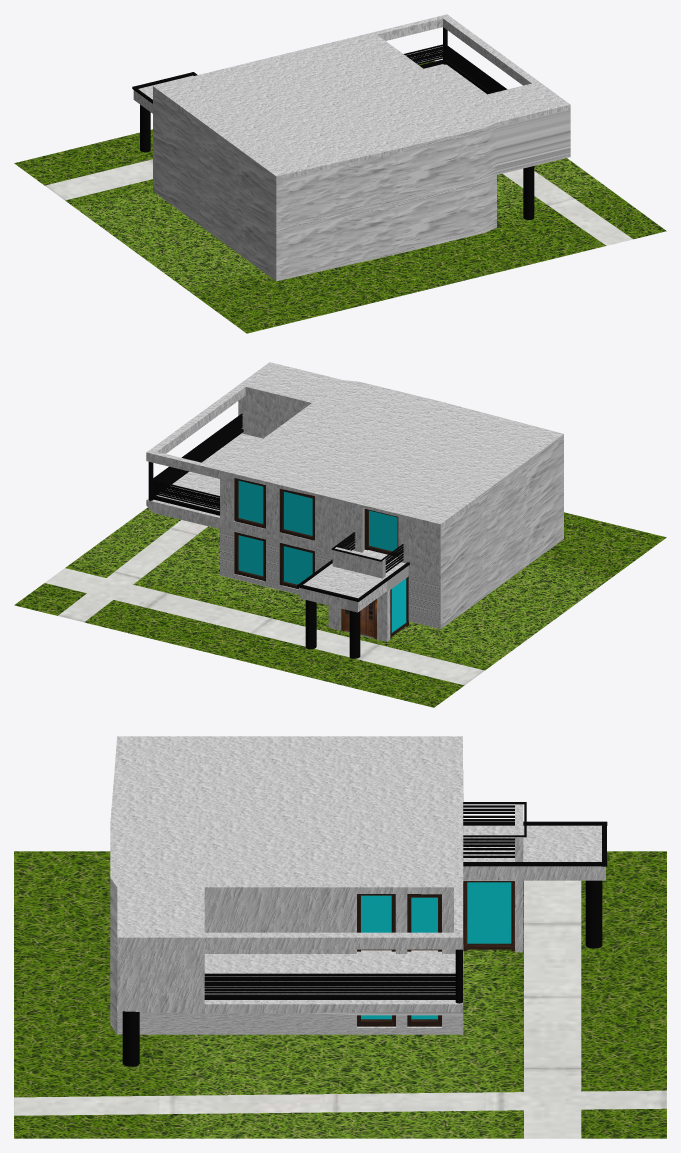
3 views of the same model, one above another, from view 1: azimuth 30°, elevation 25°; view 2: azimuth 150°, elevation 25°; view 3: azimuth 270°, elevation 25° (orthographic). The views are drawn at different scales.
Parts seen in each view (by area): view 1: Object_7, Object_4, Object_9, Object_5; view 2: Object_7, Object_4, Object_9, Object_6, Object_5, Object_8, Object_3, Object_2; view 3: Object_7, Object_4, Object_9, Object_5, Object_6, Object_8, Object_3.
Boxes of the visible parts, x1=… form: Object_7: x1=133, y1=14, x2=570, y2=281; Object_4: x1=14, y1=61, x2=666, y2=333; Object_9: x1=45, y1=159, x2=632, y2=245; Object_5: x1=132, y1=27, x2=534, y2=219; Object_7: x1=146, y1=362, x2=563, y2=641; Object_4: x1=14, y1=507, x2=666, y2=707; Object_9: x1=45, y1=520, x2=484, y2=685; Object_6: x1=238, y1=480, x2=406, y2=632; Object_5: x1=148, y1=413, x2=409, y2=658; Object_8: x1=234, y1=478, x2=408, y2=638; Object_3: x1=147, y1=478, x2=443, y2=628; Object_2: x1=341, y1=599, x2=376, y2=639; Object_7: x1=110, y1=736, x2=605, y2=1034; Object_4: x1=14, y1=851, x2=666, y2=1138; Object_9: x1=14, y1=880, x2=666, y2=1138; Object_5: x1=122, y1=802, x2=607, y2=1066; Object_6: x1=361, y1=882, x2=511, y2=1019; Object_8: x1=357, y1=881, x2=514, y2=1026; Object_3: x1=117, y1=769, x2=514, y2=1034.
Bounding box in the file's own units: 34.46 × 8.95 × 33.08.
Materials: 8 (5 with a texture image).
